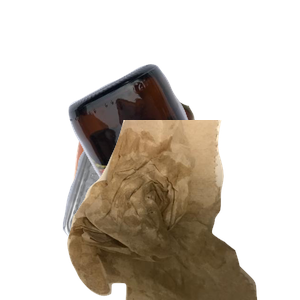glass: (66, 61, 300, 241)
metal: (69, 93, 265, 273)
plastic: (60, 136, 237, 300)
trash: (65, 120, 300, 300)
